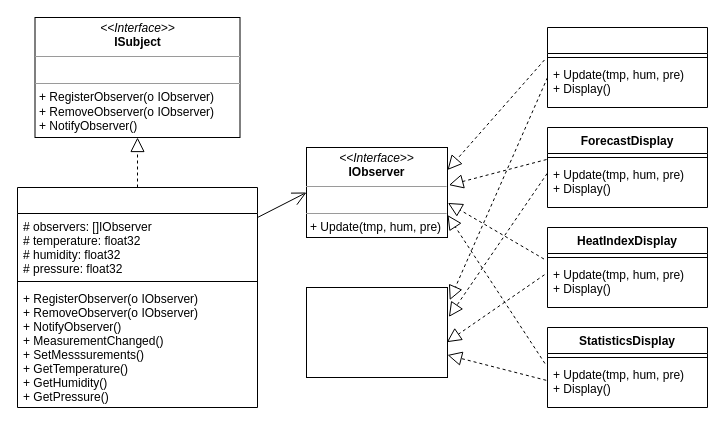
Some shapes in this 725 by 428 pixel diagram are drawn without their labels. The box of each missing label's shape, as (x1, y1, x2, y2) in pixels:
<<Interface>> IDisplayElement + Display(): (306, 286, 448, 378)
CurrentConditionDisplay: (546, 26, 708, 108)
WeatherData: (16, 186, 258, 408)
